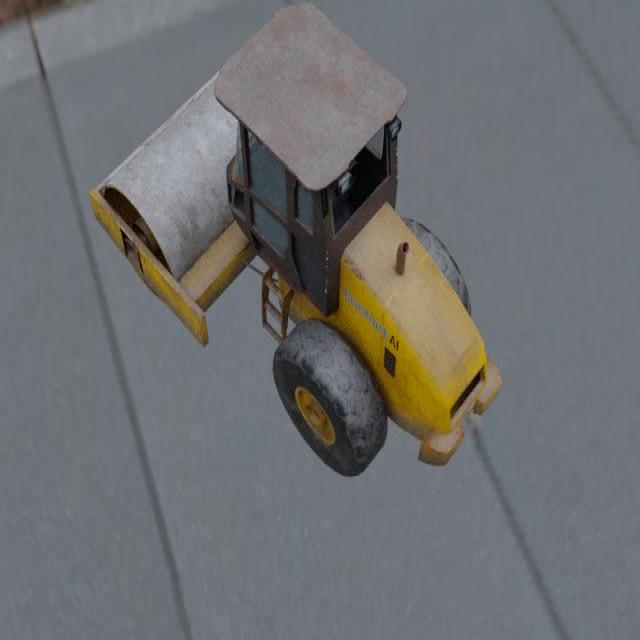Roller: (88, 3, 502, 477)
